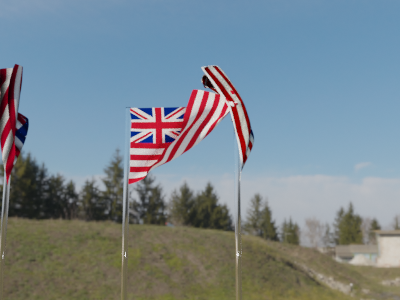America flag: (230, 52, 249, 168)
Liberia flag: (4, 65, 33, 179)
Malaysia flag: (130, 95, 230, 181)
